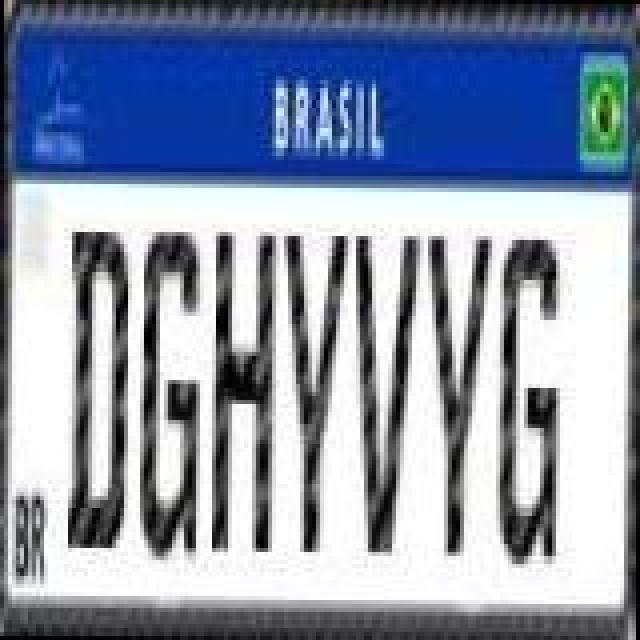D: (66, 226, 130, 550)
G: (136, 230, 204, 566), (492, 236, 560, 572)
H: (212, 228, 280, 552)
V: (352, 232, 420, 556)
Y: (278, 224, 350, 560), (420, 232, 488, 556)
